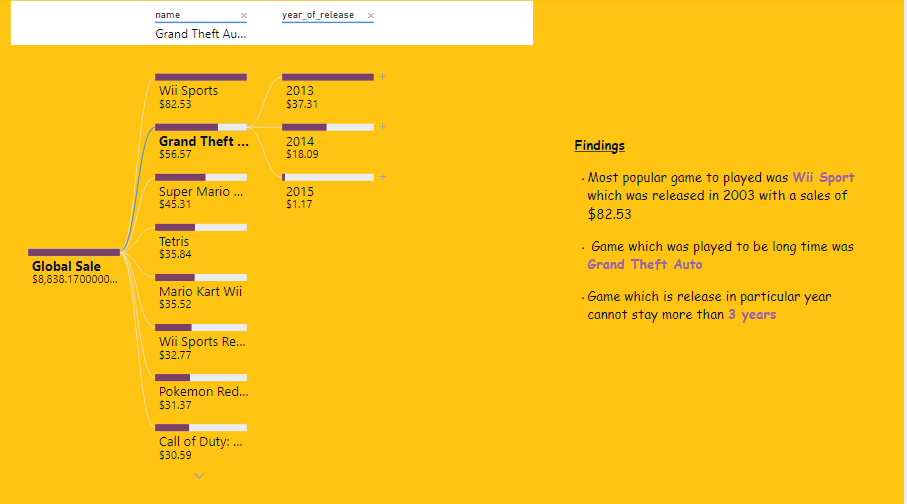

Layout of this report page (visuals, bound fields, positions):
{"tool":"powerbi","page":{"name":"Page 2","canvas":[1280,720],"ordinal":1},"visuals":[{"type":"decompositionTreeVisual","fields":{"Analyze":["Sum(video_modified.global_sales)"],"ExplainBy":["video_modified.name","video_modified.year_of_release","video_modified.publisher","video_modified.rating","video_modified.genre","video_modified.platform","video_modified.developer"]},"box":[9.9,0,751.2,707.2],"z":0},{"type":"textbox","box":[809.7,191.5,436.7,297.3],"z":2001}]}

Visuals, with their boxes in screenshot pixels (x1, y1, x2, y2), scaled from the page's 1280x720 canvas onto the 907x504 screenshot:
decompositionTreeVisual - Sum(video_modified.global_sales) x video_modified.name: x1=7 y1=0 x2=539 y2=495
textbox: x1=574 y1=134 x2=883 y2=342
